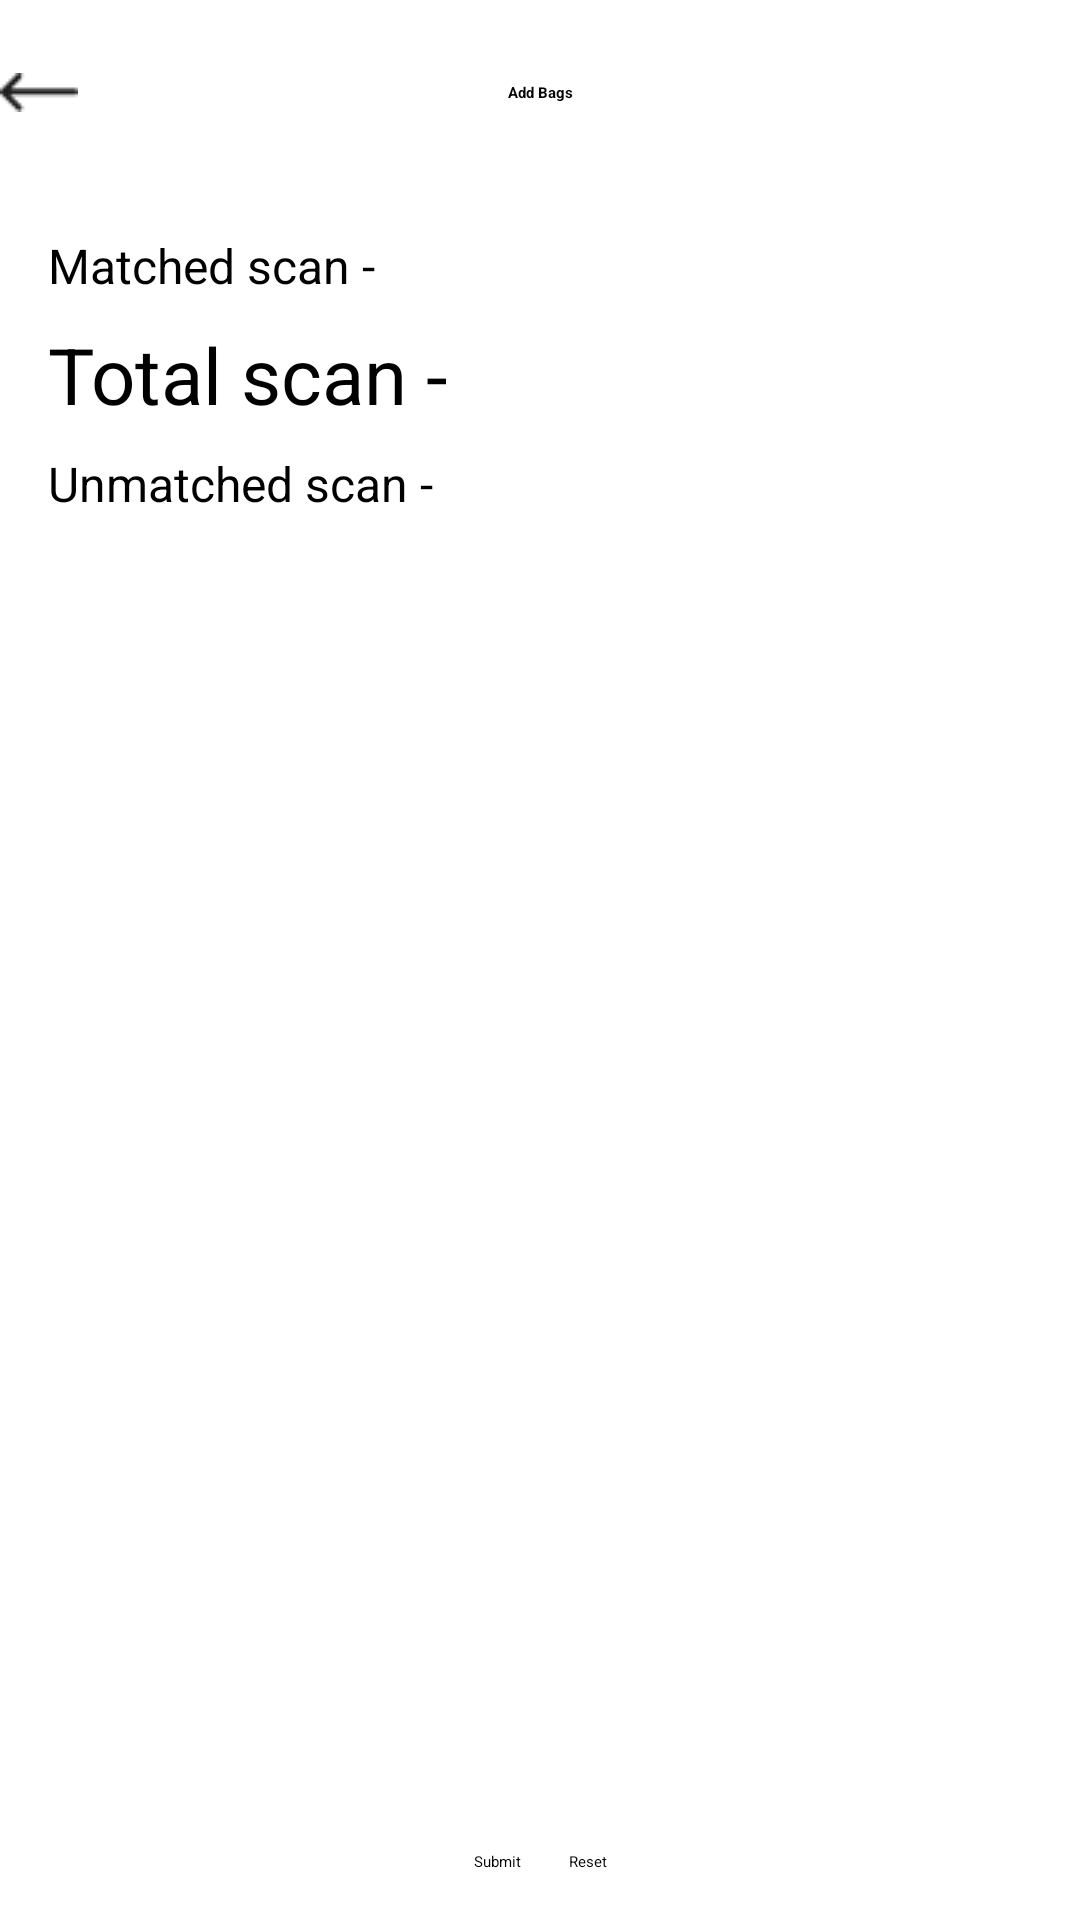

Named icons in this screenshot (1080x1920) and their bounding boxes, (x1, y1, x2, y2):
backicon: (0, 73, 78, 112)
